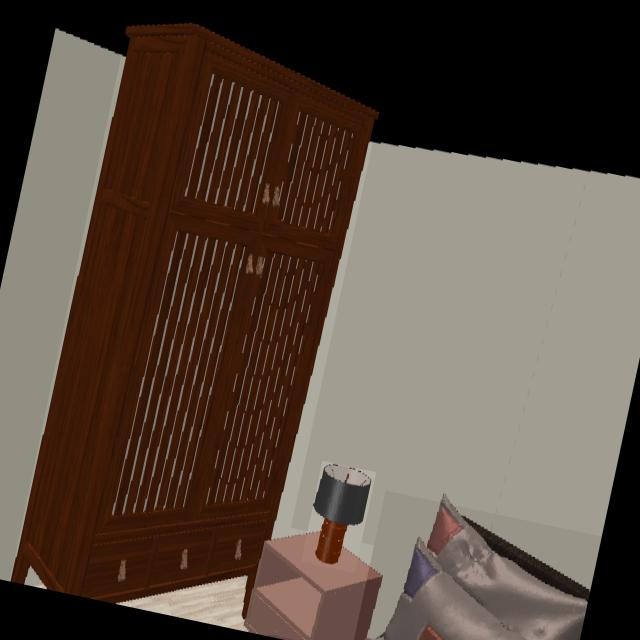lamp: (311, 464, 373, 568)
nighttable: (242, 534, 384, 640)
pillow: (375, 503, 589, 640)
wardrobe: (16, 22, 378, 604)
